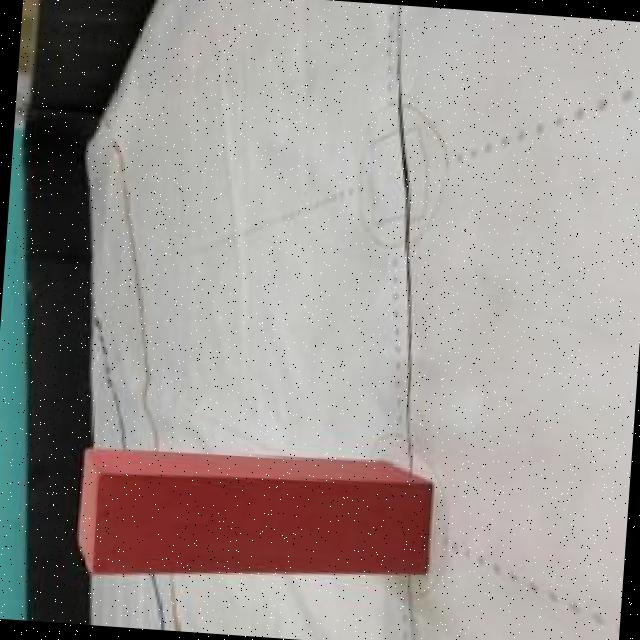redbox: (68, 436, 428, 598)
